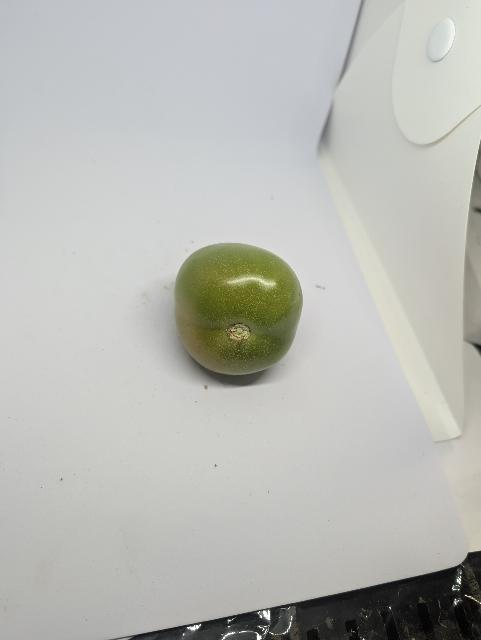green: (172, 240, 306, 380)
